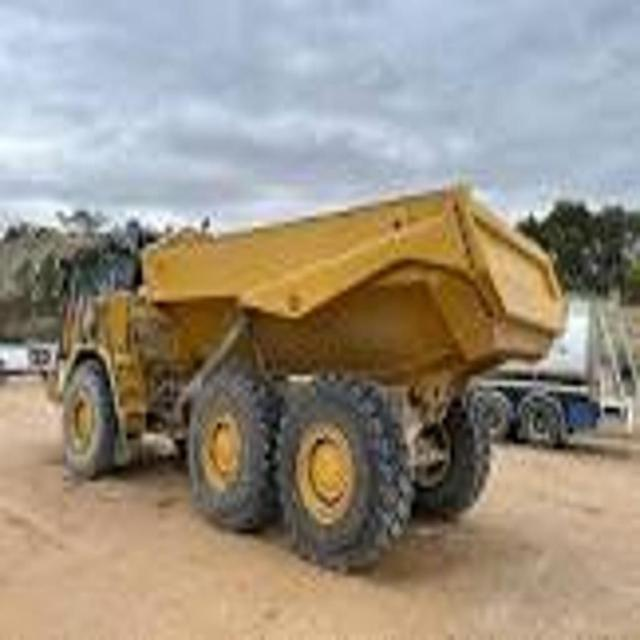dump_truck: (48, 184, 570, 572)
